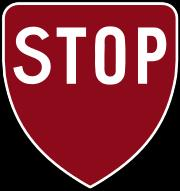Stop: (3, 7, 177, 172)
